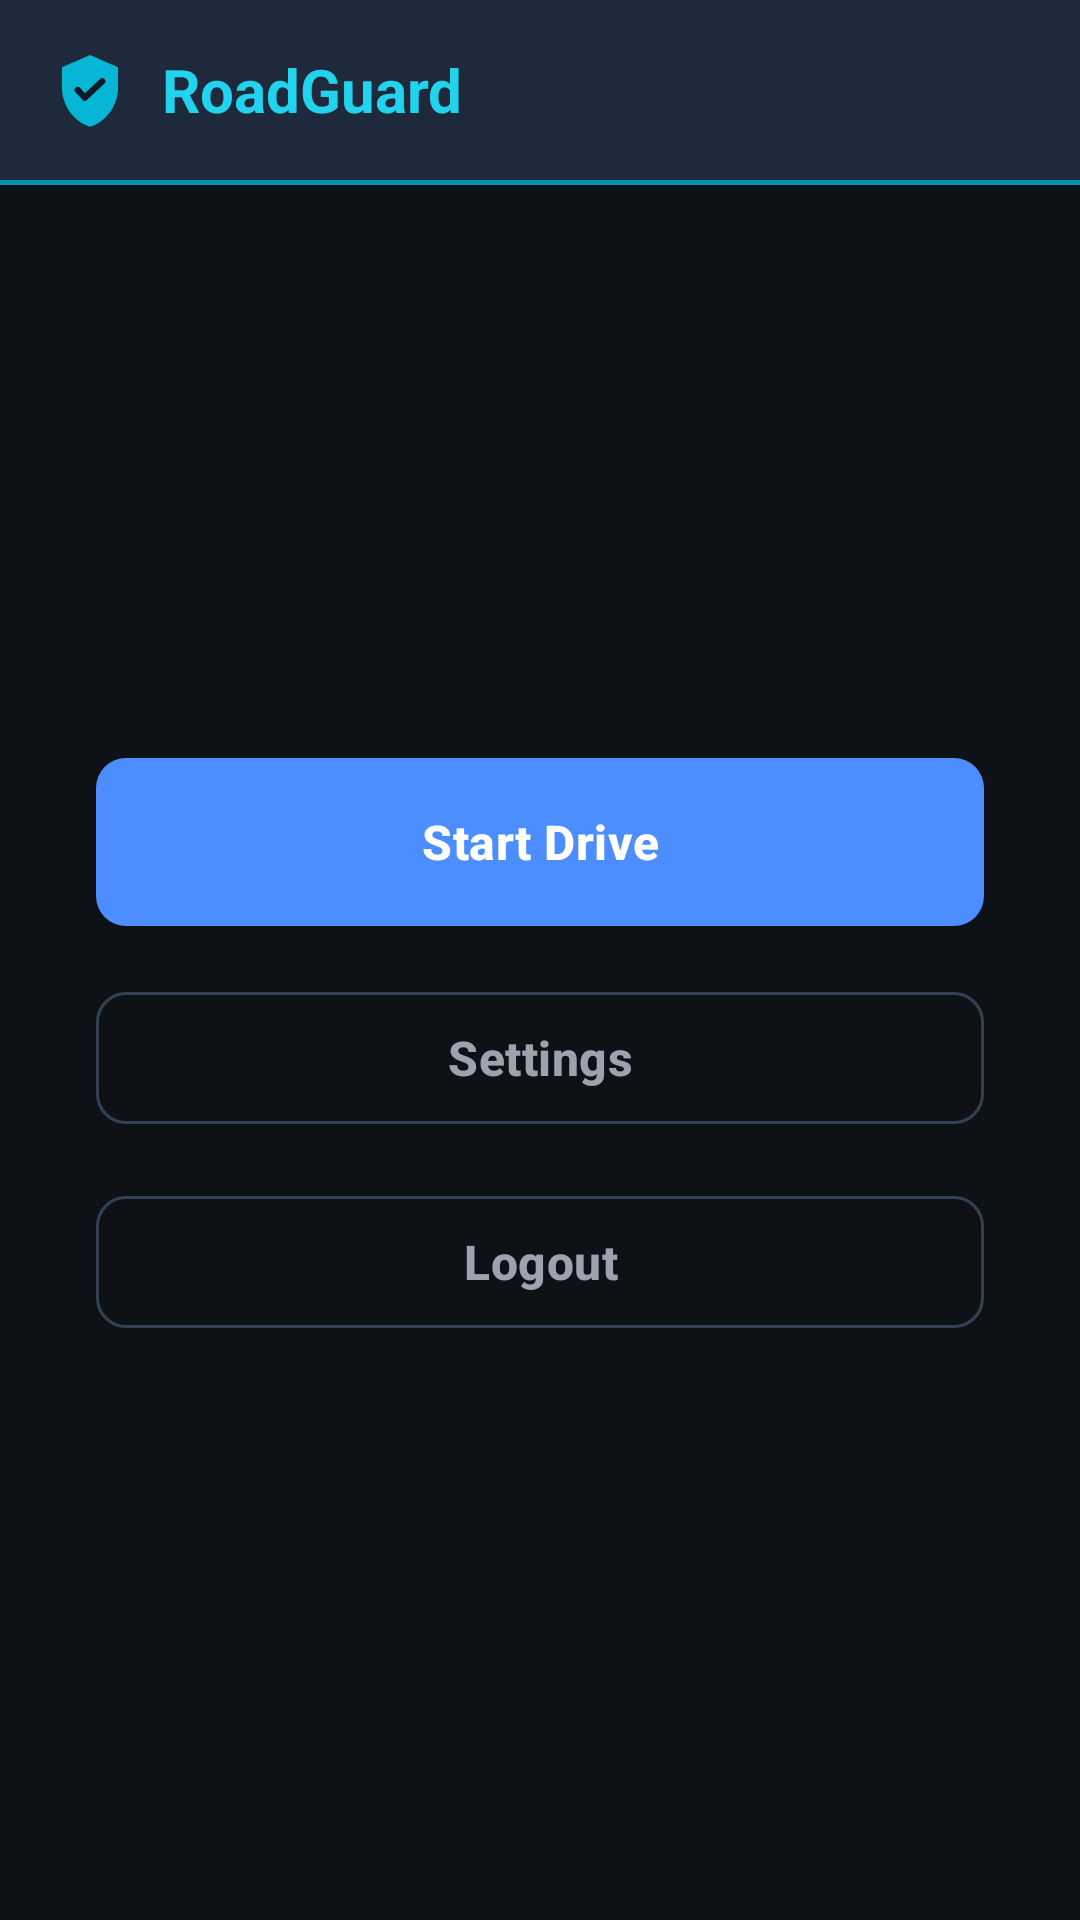

Locate icon controls on the screen. Image size 1080×1920, boxes as region(x1, y1, x2, y2).
shield: region(62, 55, 118, 127)
